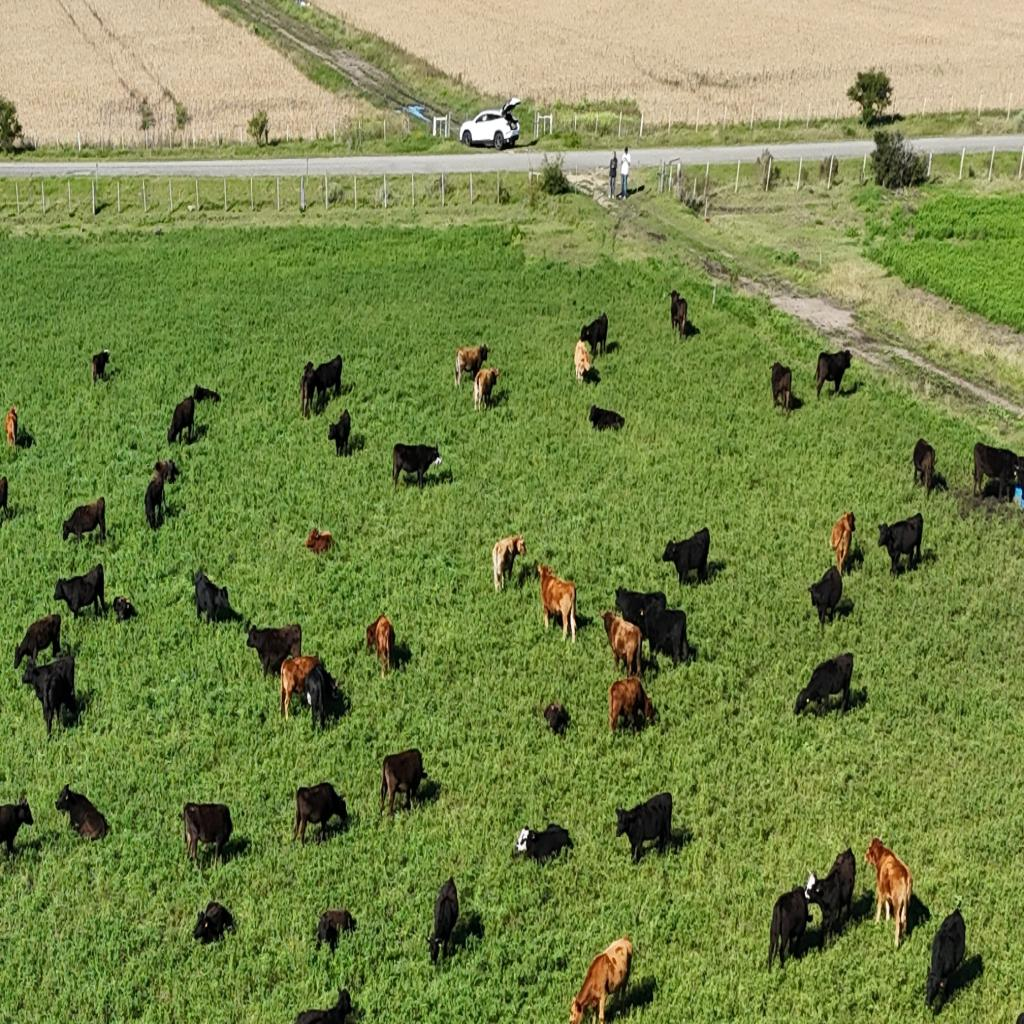cow: (570, 934, 634, 1024), (865, 837, 914, 947), (20, 650, 76, 738), (804, 847, 856, 941), (924, 904, 966, 1016), (794, 652, 854, 722), (614, 794, 671, 866), (178, 799, 234, 869), (768, 885, 810, 975), (292, 782, 348, 848), (536, 560, 578, 644), (643, 599, 690, 670), (247, 624, 303, 683), (56, 783, 110, 843), (600, 608, 644, 681), (380, 750, 425, 820), (972, 441, 1022, 502), (278, 654, 322, 722), (876, 512, 922, 577), (427, 875, 459, 967), (54, 564, 106, 620), (662, 527, 710, 587), (607, 676, 654, 737), (14, 613, 62, 669), (392, 442, 442, 492), (301, 657, 336, 728), (514, 823, 571, 866), (192, 569, 235, 625), (809, 564, 844, 631), (62, 497, 107, 547), (0, 794, 34, 860), (294, 987, 354, 1024), (306, 355, 342, 416), (492, 530, 525, 593), (615, 587, 662, 631), (314, 907, 356, 954), (814, 348, 851, 400), (192, 900, 234, 945), (365, 613, 395, 676), (454, 343, 488, 392), (830, 511, 855, 576), (912, 438, 940, 494), (770, 362, 795, 420), (167, 395, 195, 446), (579, 313, 607, 359), (474, 366, 500, 412), (327, 409, 350, 458), (144, 476, 164, 532), (670, 289, 688, 340), (300, 362, 316, 419), (544, 701, 570, 736), (590, 406, 624, 432), (151, 459, 178, 489), (573, 339, 591, 384), (304, 530, 334, 555), (91, 350, 111, 387), (112, 596, 137, 622), (5, 404, 19, 449), (193, 384, 220, 404), (0, 474, 10, 519), (366, 620, 378, 654), (454, 351, 464, 389)
